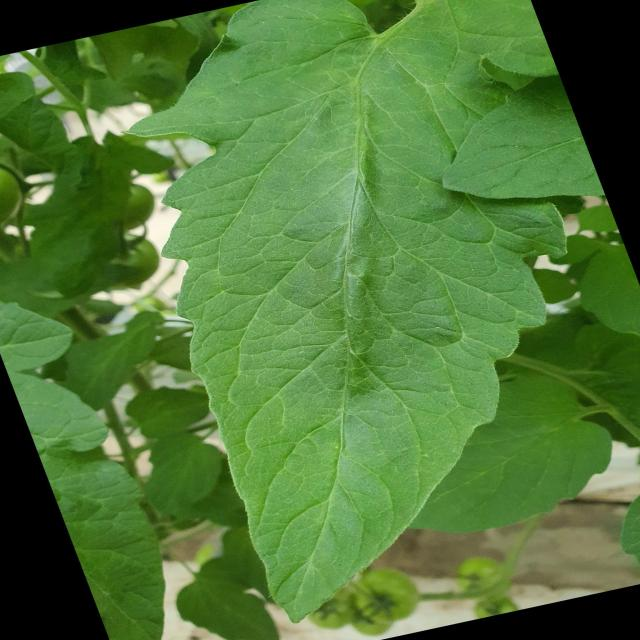Healthy Leaf: (136, 1, 610, 627)
